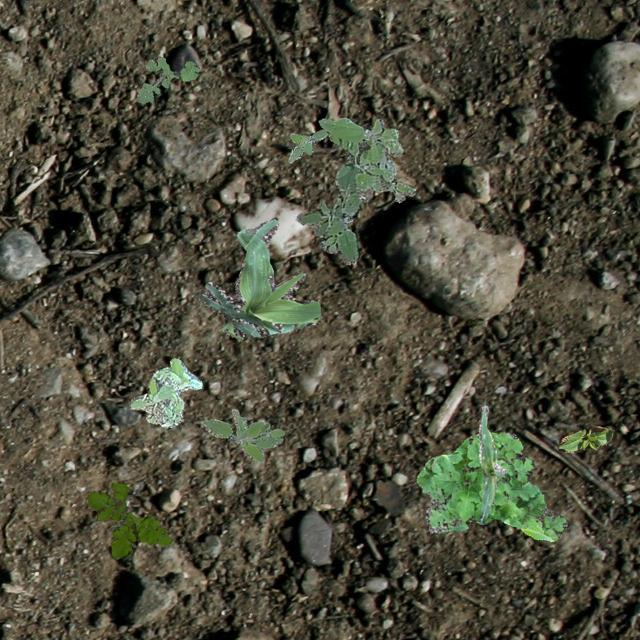crop: (196, 218, 320, 336), (478, 403, 507, 522), (556, 424, 612, 452)
weed: (416, 430, 566, 540), (318, 116, 414, 202), (296, 156, 362, 264), (86, 482, 172, 558), (128, 358, 202, 428), (200, 408, 284, 462), (136, 56, 198, 101), (286, 128, 328, 162)
